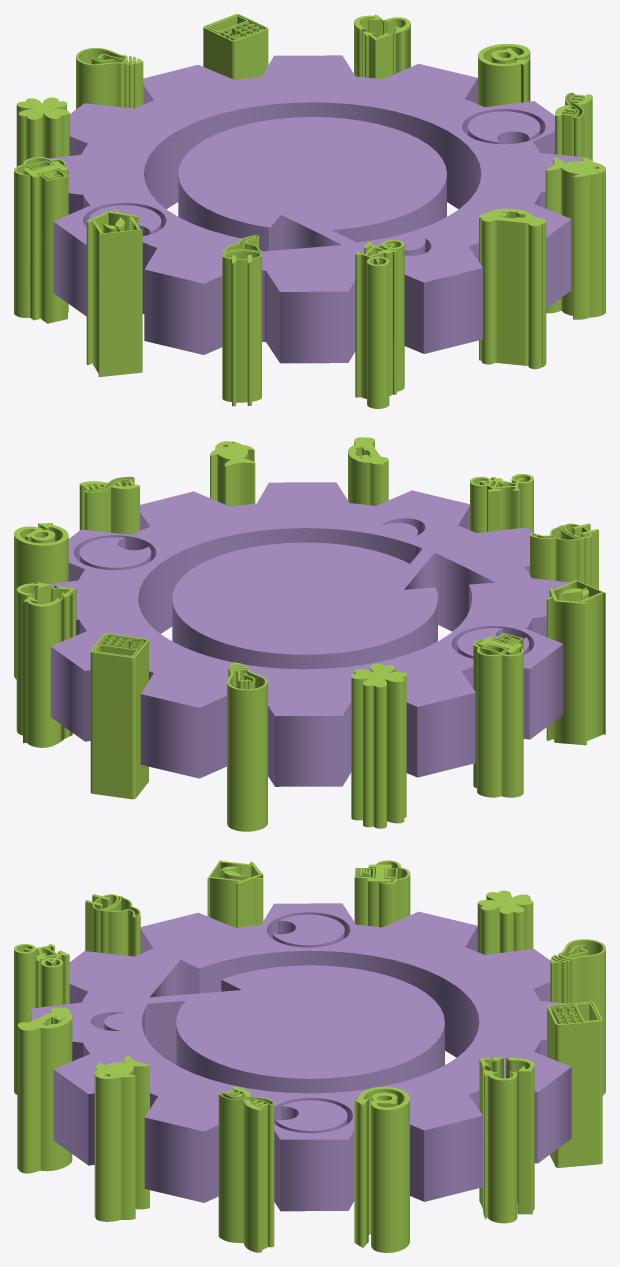
Rendered from iot.glb.
The picture shows the model from 3 angles, top to bottom: view 1: azimuth 30°, elevation 25°; view 2: azimuth 150°, elevation 25°; view 3: azimuth 270°, elevation 25°; orthographic projection.
Visible parts, largest first — view 1: path3353-7, path3766, path5464-5, path3775-7, path4902, path3581, path3850, path5542, path5371, path2909-1, path14007, path5587-2 (+1 smaller); view 2: path3353-7, path14007, path5371, path4902, path5464-5, path2909-1, path5542, path3850, path5587-2, path3775-7, path4161, path3581 (+1 smaller); view 3: path3353-7, path5587-2, path4161, path2909-1, path3581, path3766, path5371, path3775-7, path5542, path5464-5, path4902, path14007 (+1 smaller).
Boxes of the visible parts, x1,y1,x2,y2 form: path3353-7: (49,55,590,363); path3766: (479,208,546,369); path5464-5: (86,209,142,377); path3775-7: (355,239,404,408); path4902: (14,157,68,323); path3581: (545,157,605,319); path3850: (222,235,261,406); path5542: (76,48,143,109); path5371: (203,14,268,79); path2909-1: (354,14,410,79); path14007: (16,97,69,166); path5587-2: (478,43,530,107); path3353-7: (48,482,569,786); path14007: (351,663,406,828); path5371: (90,633,148,799); path4902: (473,633,523,797); path5464-5: (546,579,605,745); path2909-1: (16,582,76,747); path5542: (227,662,267,831); path3850: (530,523,598,589); path5587-2: (14,523,68,679); path3775-7: (470,474,533,533); path4161: (79,476,139,534); path3581: (210,441,255,506); path3353-7: (31,903,571,1211); path5587-2: (354,1086,409,1252); path4161: (218,1086,274,1252); path2909-1: (479,1057,534,1223); path3581: (94,1055,149,1221); path3766: (17,1007,72,1173); path5371: (547,1001,602,1167); path3775-7: (14,944,69,1094); path5542: (550,939,605,1095); path5464-5: (207,860,263,927); path4902: (354,860,410,927); path14007: (477,890,533,954).
Size of the model in its own units: 5.16 by 1.38 by 5.17.
